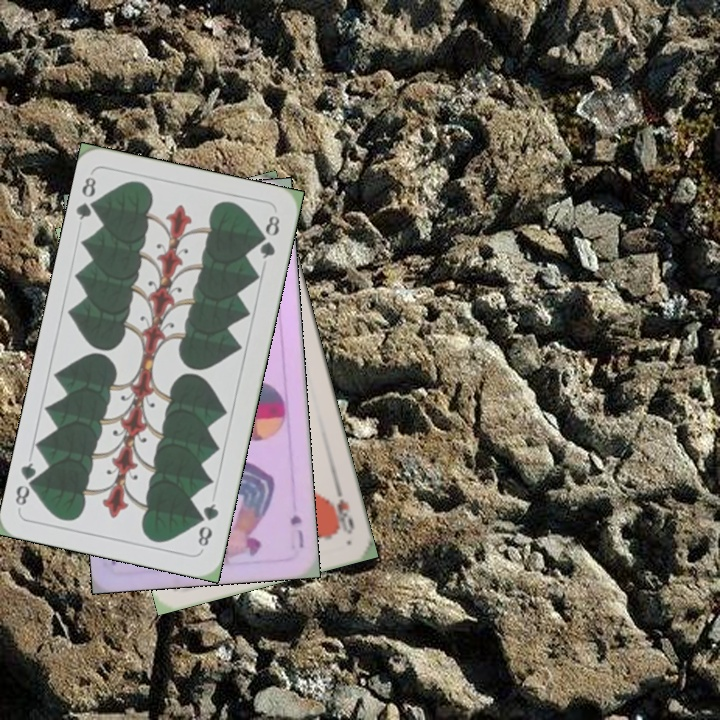G8: (73, 173, 104, 223), (194, 499, 222, 549)
HO: (327, 479, 357, 538)
SU: (286, 510, 306, 551)
